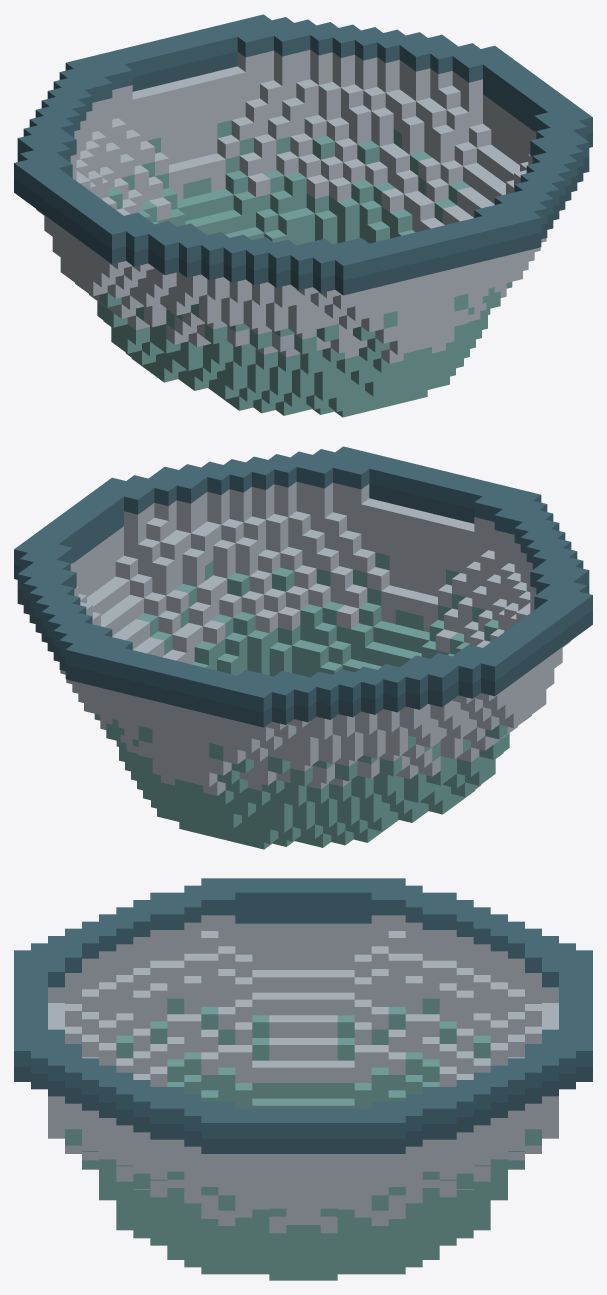
Rendered from Bowl.obj.
The picture shows the model from 3 angles, top to bottom: view 1: azimuth 30°, elevation 25°; view 2: azimuth 150°, elevation 25°; view 3: azimuth 270°, elevation 25°; orthographic projection. The views are drawn at different scales.
Bounding box in the file's own units: 3.4 × 1.4 × 3.4.
